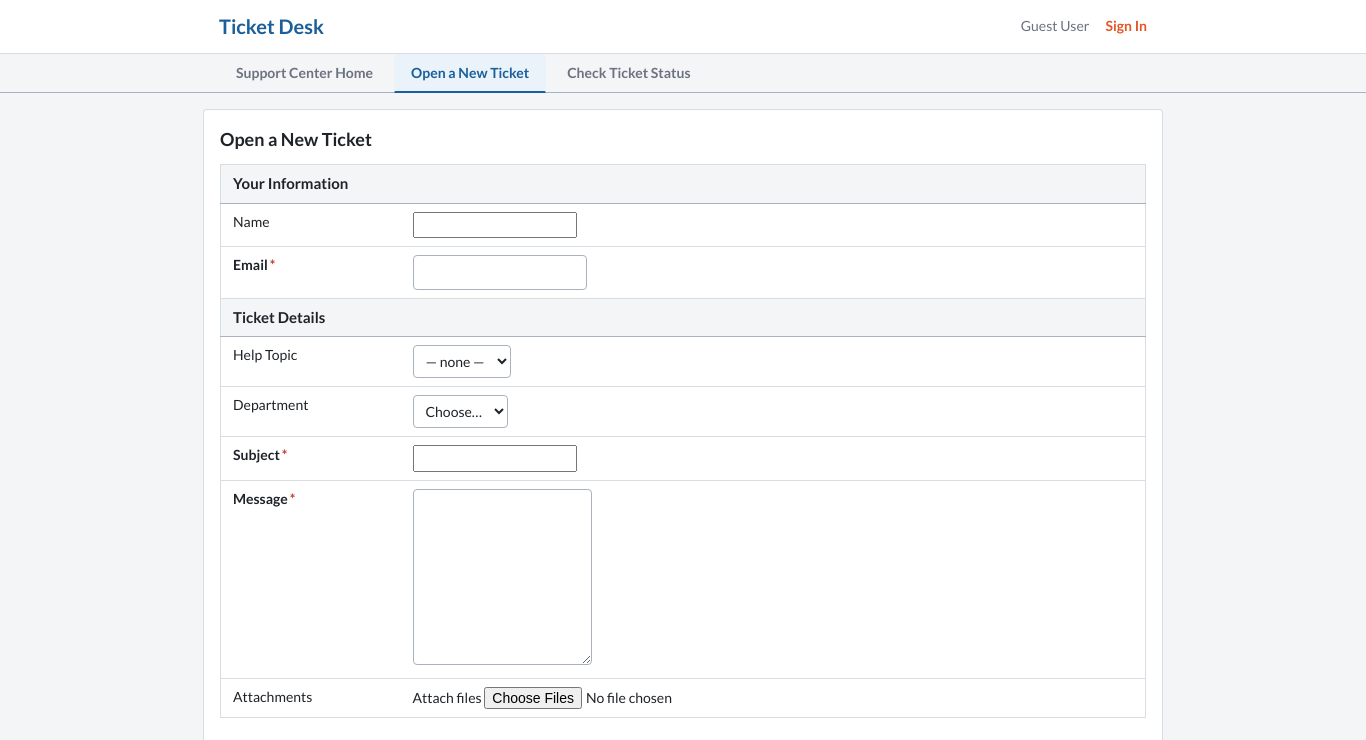
Test: anonymous: submits the ticket and shows the emailed-link confirmation
Type "Jamie Customer" into the field labelled "Name" at (494, 225), box 412,212 -> 576,238
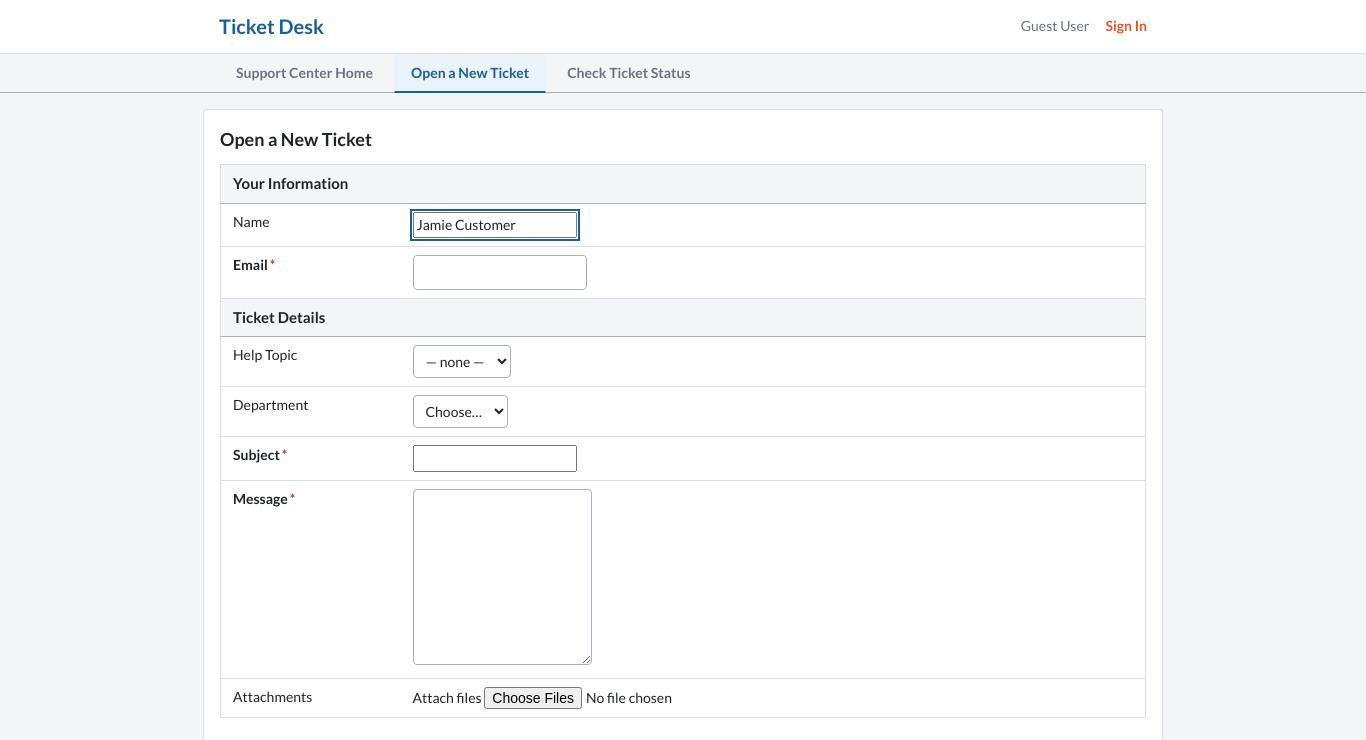
Type "jamie@example.test" into the field labelled "Email*" at (500, 273), box 412,255 -> 586,290
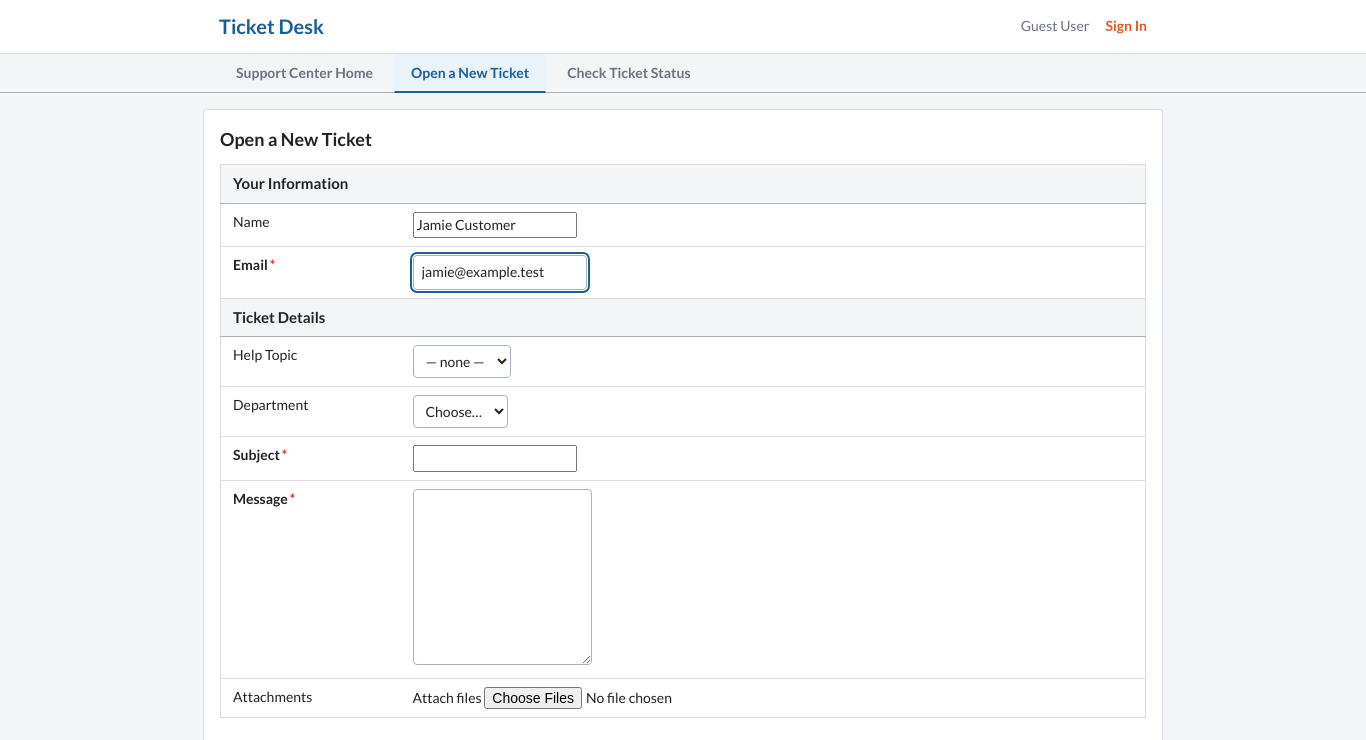
Type "Printer on fire" into the field labelled "Subject*" at (494, 459), box 412,446 -> 576,472
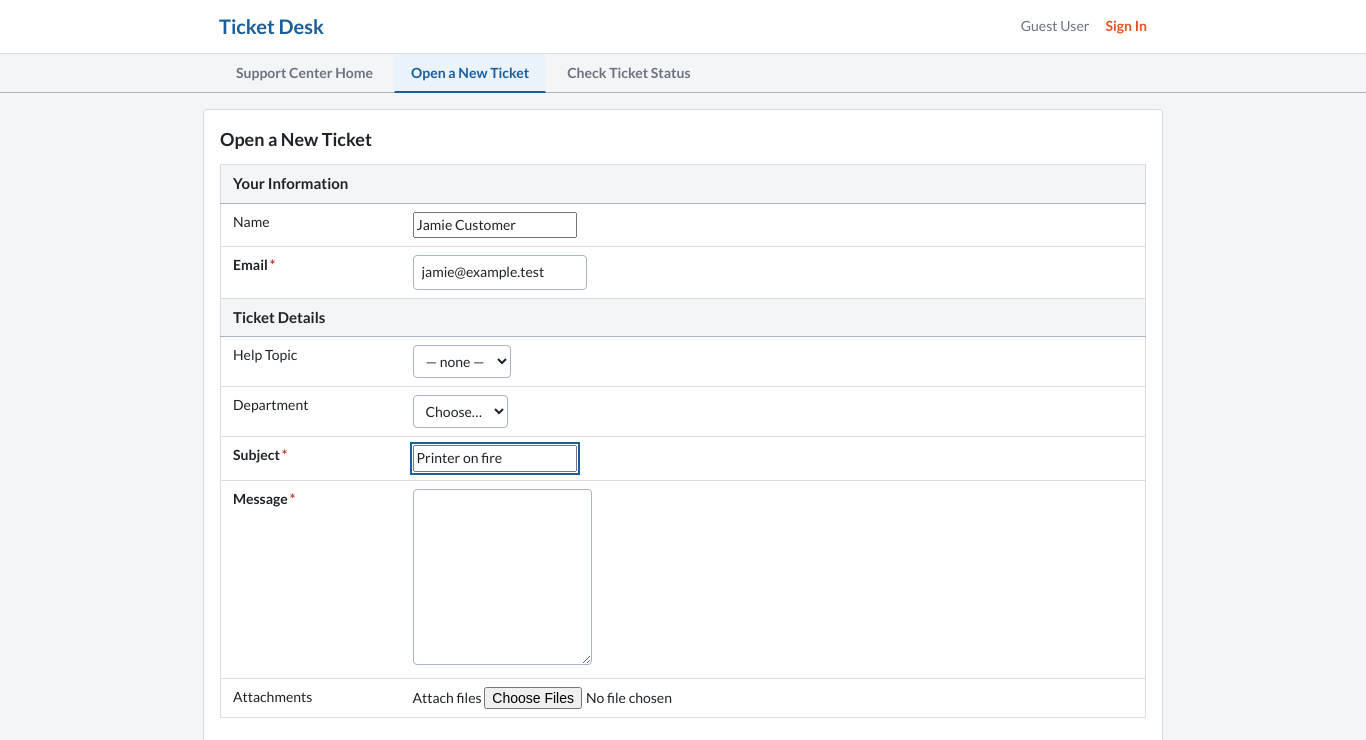
Type "Please help" into the text box labelled "Message*" at (502, 577), box 412,489 -> 592,665
(page scrolled)
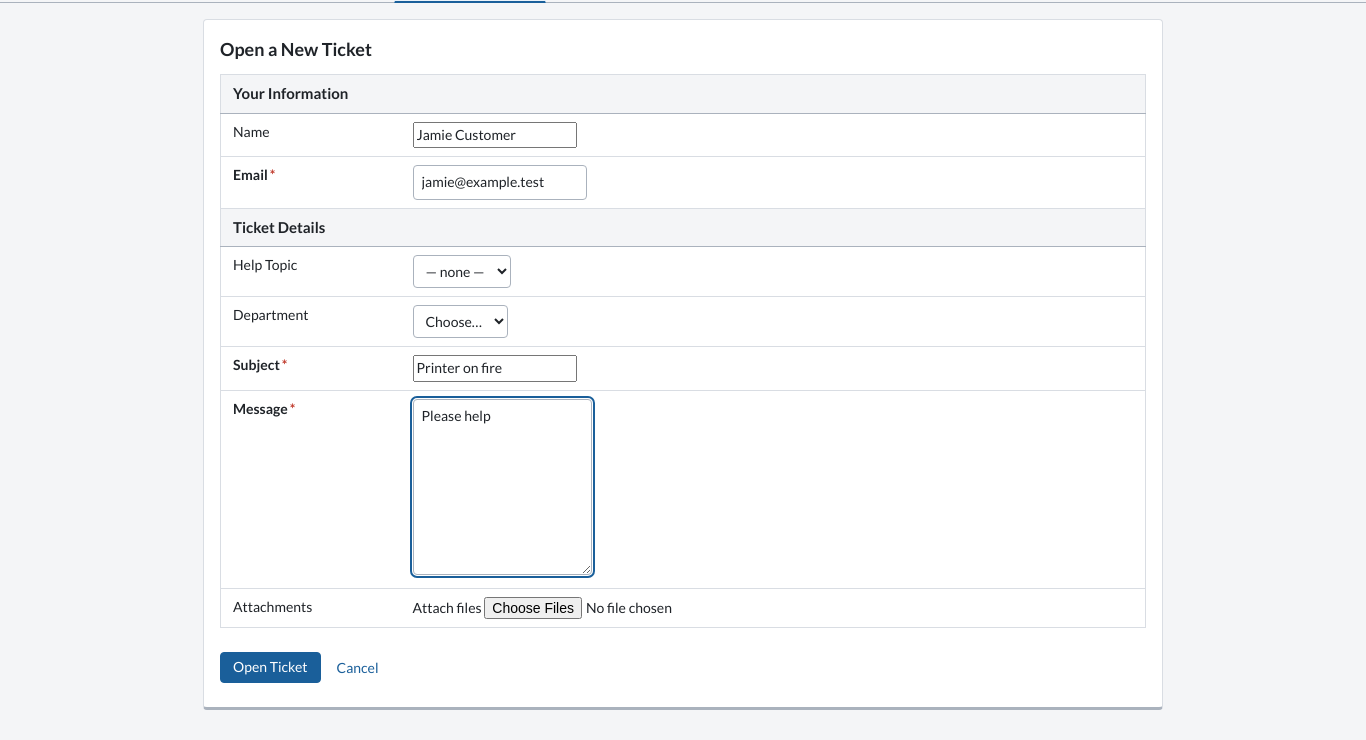
Click the button "Open Ticket" at (270, 668), box 220,652 -> 321,683
(page scrolled)
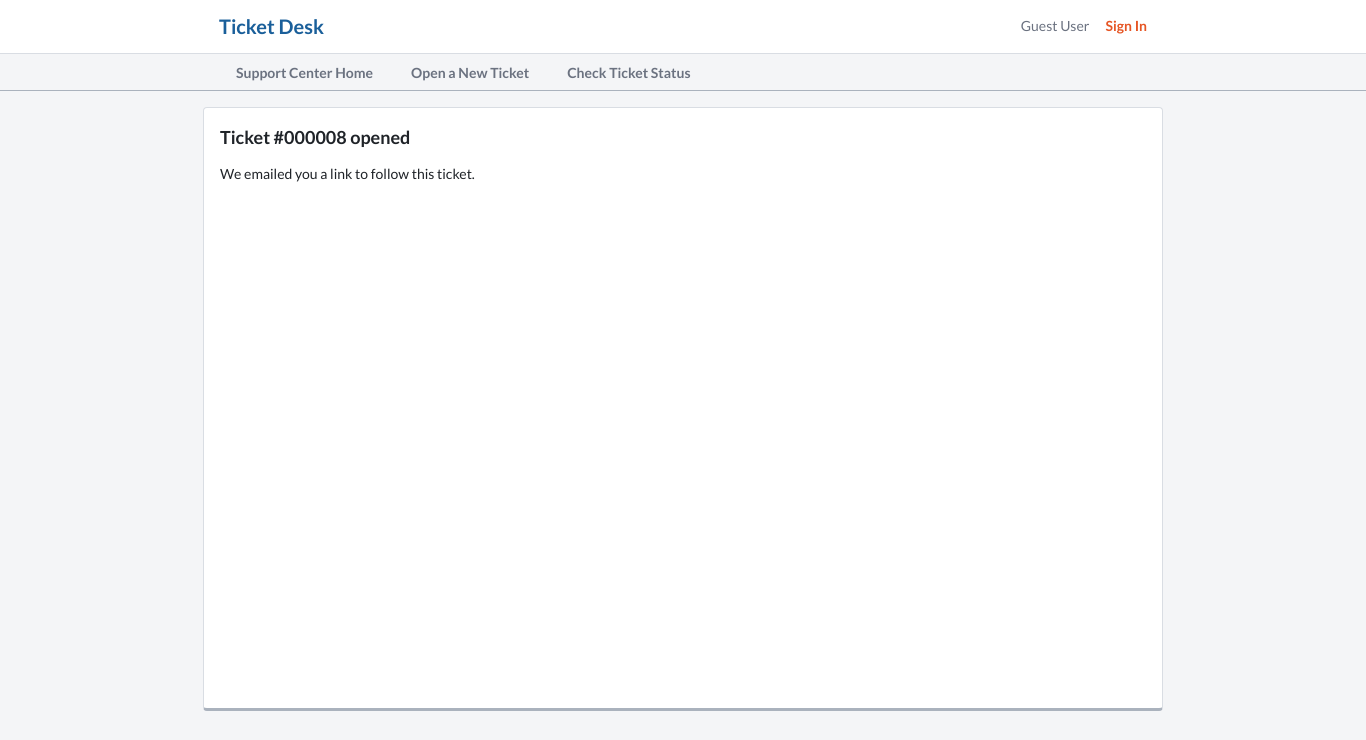
Now the heading "Ticket #000008 opened" is shown, box 220,126 -> 410,148
Now the text "We emailed you a link to follow this ticket." is shown, box 220,165 -> 475,182
